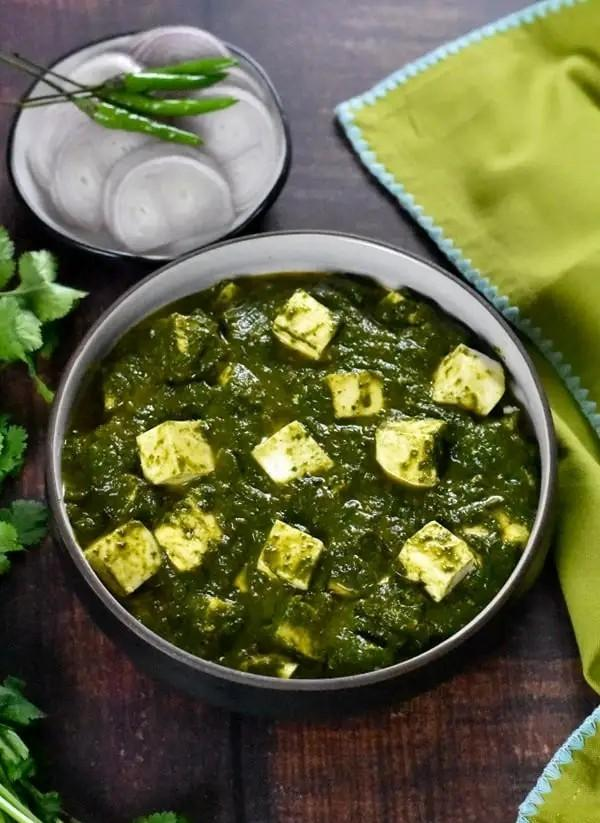PalakPaneer: (59, 265, 545, 676)
